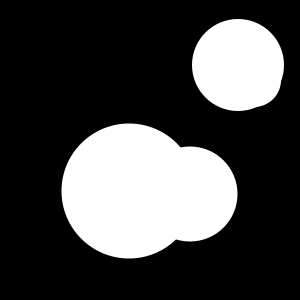rectangle: (61, 124, 196, 258), (142, 146, 238, 241), (192, 19, 284, 111), (227, 53, 281, 107)
